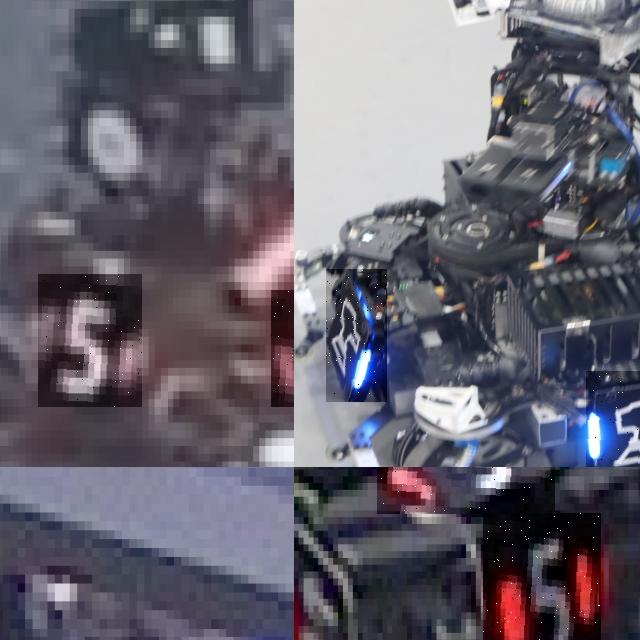Bs: (326, 269, 387, 402), (586, 370, 640, 467)
R5: (483, 513, 601, 640), (38, 274, 142, 407), (377, 467, 554, 513), (271, 290, 294, 407)
